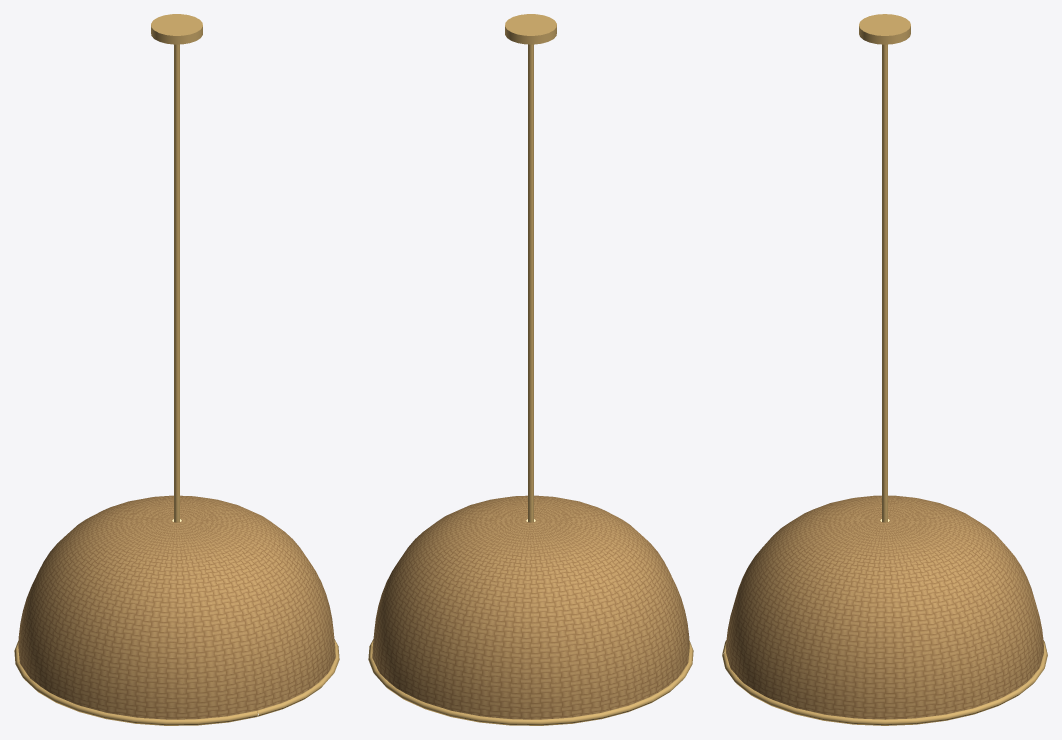
The model's file is pendant.glb.
The picture shows the model from 3 angles, left to right: view 1: azimuth 30°, elevation 25°; view 2: azimuth 150°, elevation 25°; view 3: azimuth 270°, elevation 25°; orthographic projection.
Visible parts, largest first — view 1: resort; view 2: resort; view 3: resort.
Part boxes in pixels (box(x1,y1,x2,y2)): resort: box(14, 14, 339, 725); resort: box(368, 14, 693, 725); resort: box(722, 14, 1047, 725).
Bounding box in the file's own units: 2.74 × 5.88 × 2.74.
4 materials, 1 textured.
